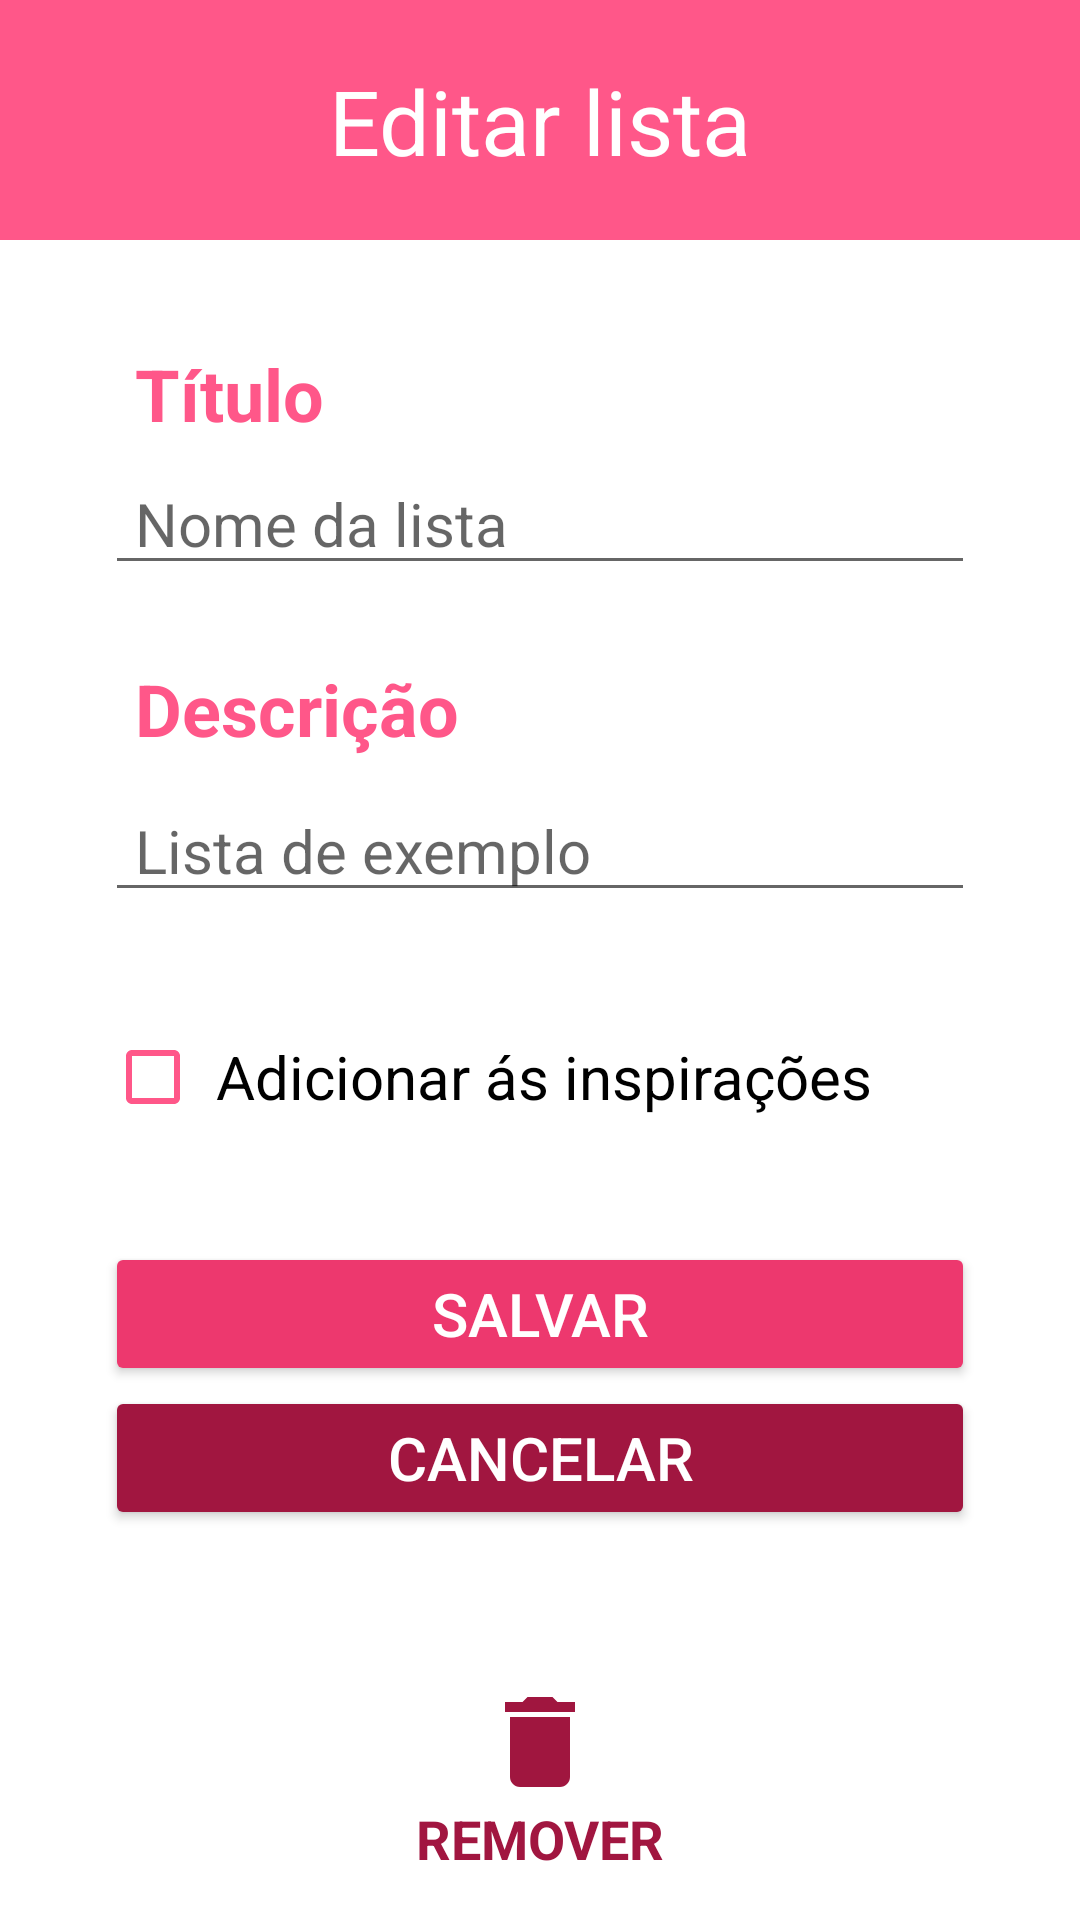

Icons on this 1080*1920 Android screen, each with the point to tap as point (x, y):
delete: point (540, 1742)
